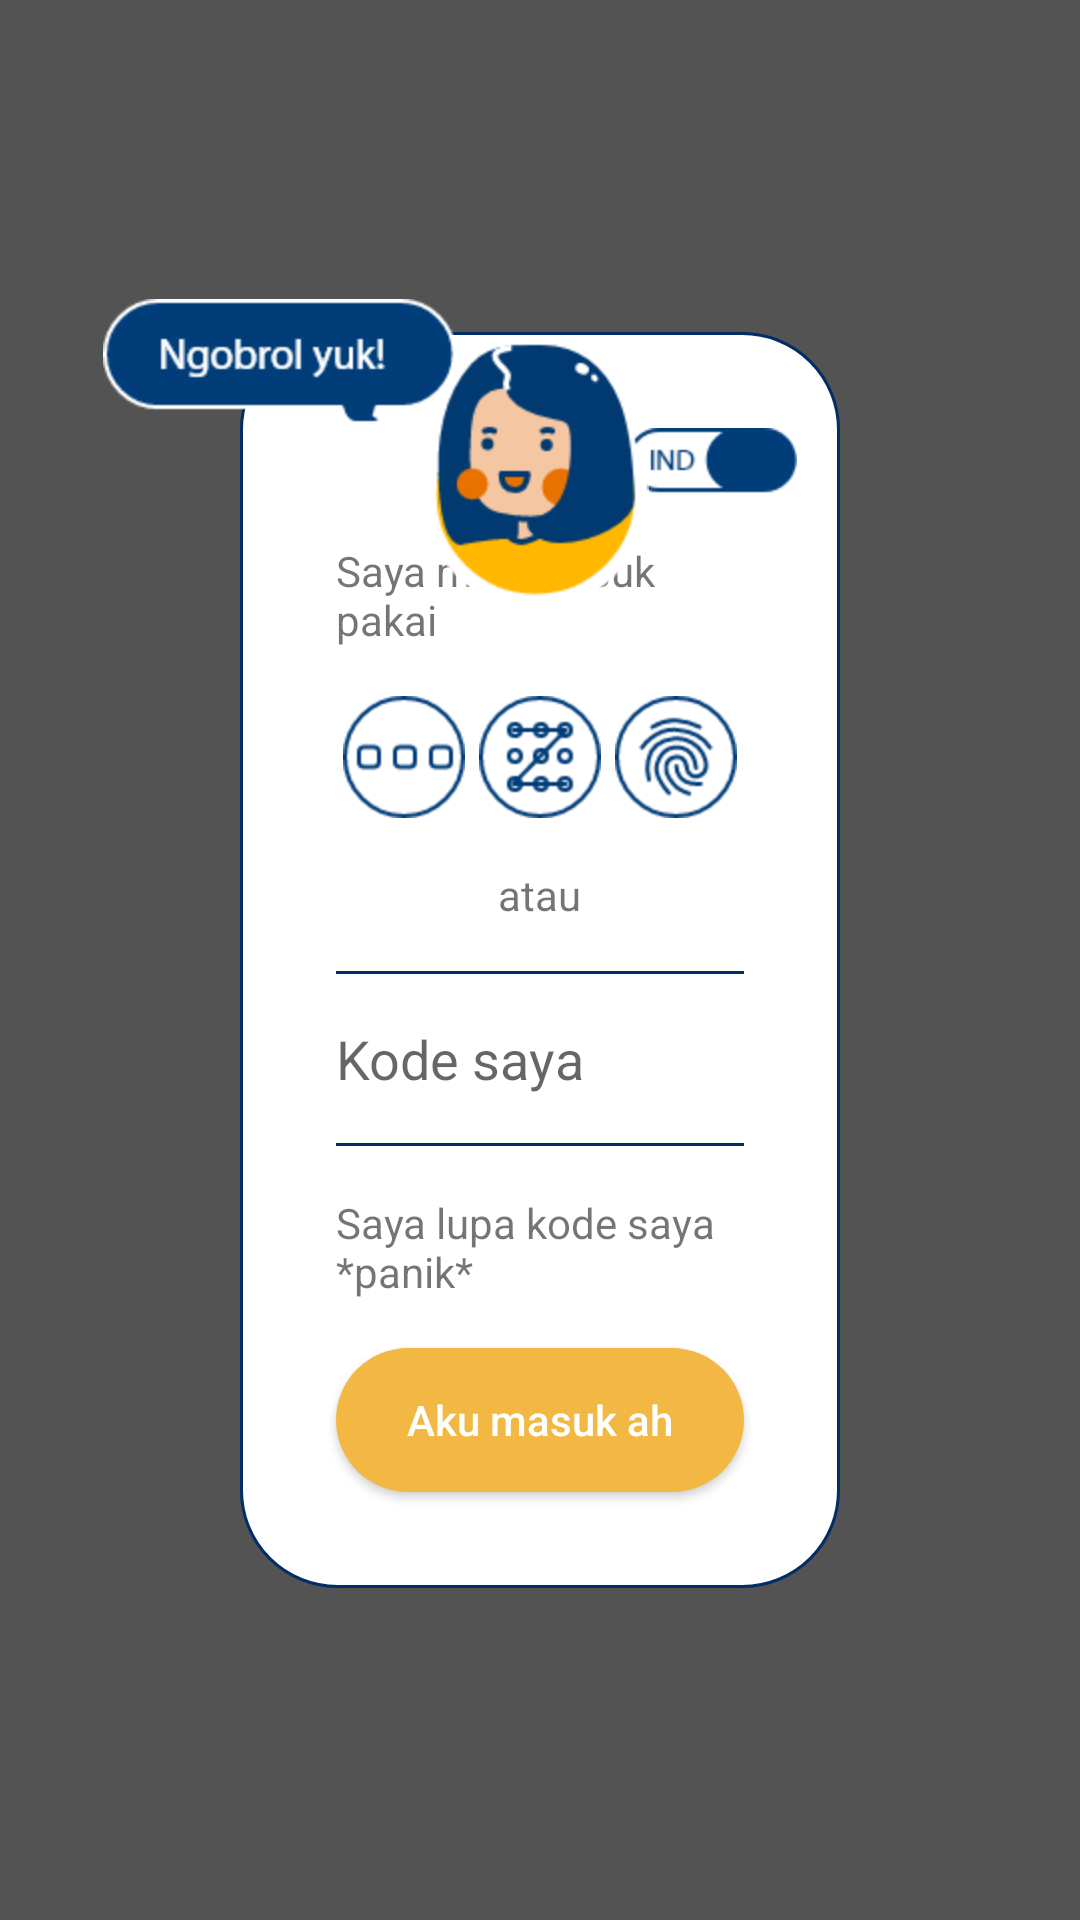

Icon bounding boxes for this 1080*1920 phone screenshot, format (x1, y1, x2, y2):
fingerprint: (615, 696, 737, 818)
language change: (634, 428, 797, 493)
pattern: (479, 696, 601, 818)
pin: (343, 696, 465, 818)
